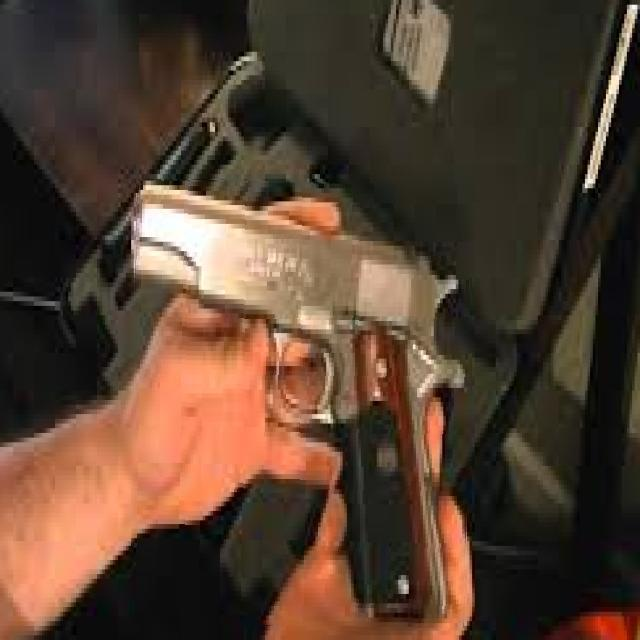Gun_Holder: (96, 166, 488, 604)
